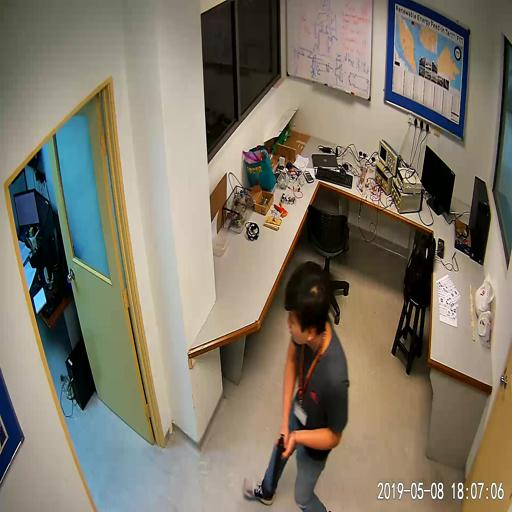pistol: (270, 432, 285, 497)
